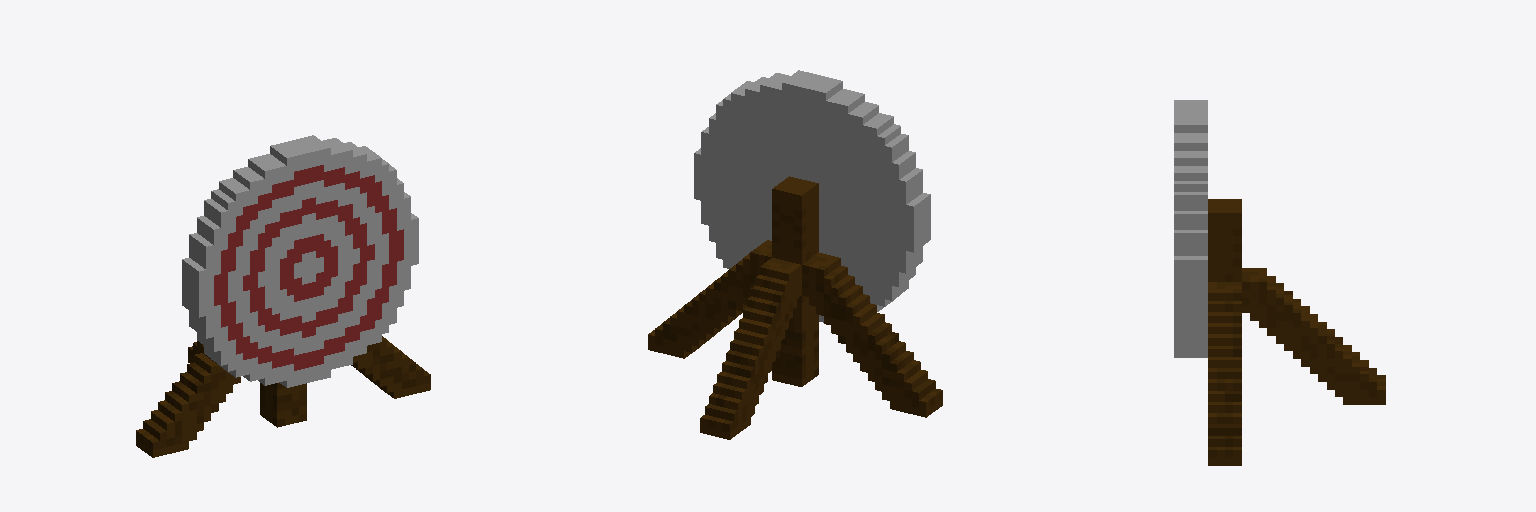
The picture shows the model from 3 angles: view 1: azimuth 30°, elevation 25°; view 2: azimuth 150°, elevation 25°; view 3: azimuth 270°, elevation 25°; orthographic projection.
Visible parts, largest first — view 1: object 1; view 2: object 1; view 3: object 1.
Boxes of the visible parts, box(x1,y1,x2,y2) form: object 1: box(136, 135, 430, 457); object 1: box(648, 70, 942, 439); object 1: box(1174, 100, 1385, 465).
Bounding box in the file's own units: 3.8 × 3.7 × 2.5.
1 materials, 1 textured.